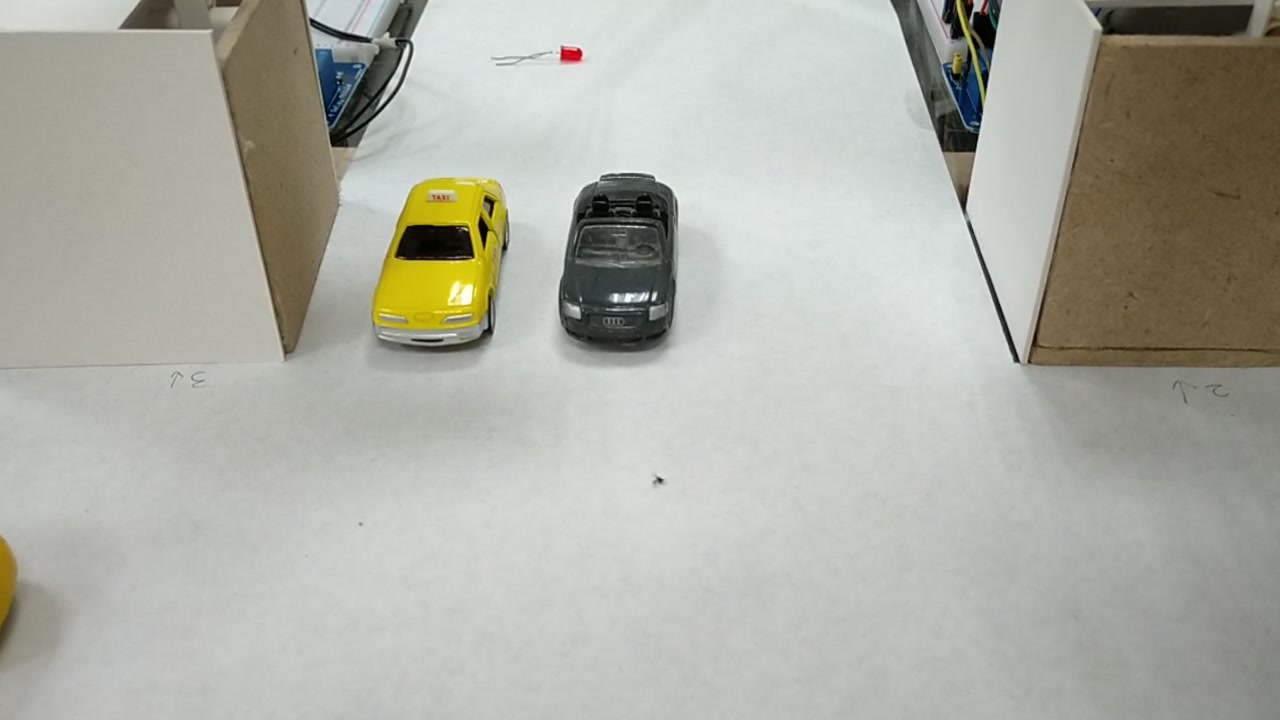car: (375, 175, 506, 341), (559, 167, 677, 341)
